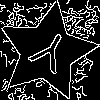Y: (22, 27, 74, 83)
